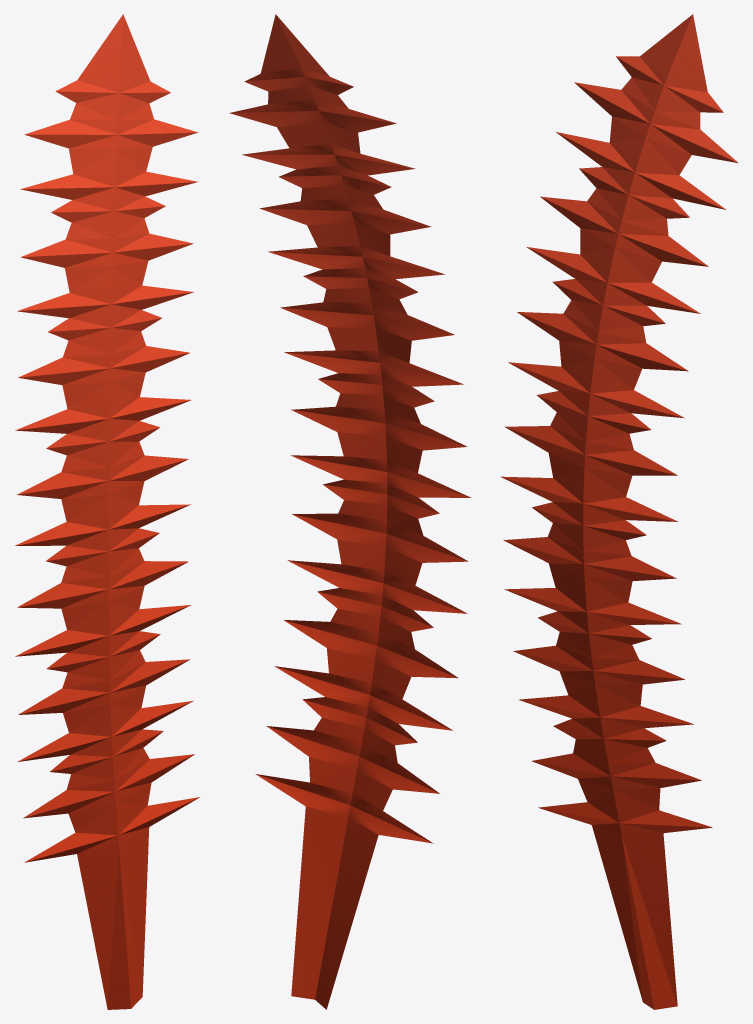
Rendered from Plant_3.fbx.
3 renders of one model, left to right at view 1: azimuth 30°, elevation 25°; view 2: azimuth 150°, elevation 25°; view 3: azimuth 330°, elevation 25°, orthographic. The views are drawn at different scales.
Visible parts, largest first — view 1: polySurface543; view 2: polySurface543; view 3: polySurface543.
Boxes of the visible parts, <box> form: polySurface543: <box>15,14,199,1009</box>; polySurface543: <box>229,14,471,1009</box>; polySurface543: <box>500,14,738,1009</box>.
Size of the model in its own units: 29.15 by 129 by 11.32.
